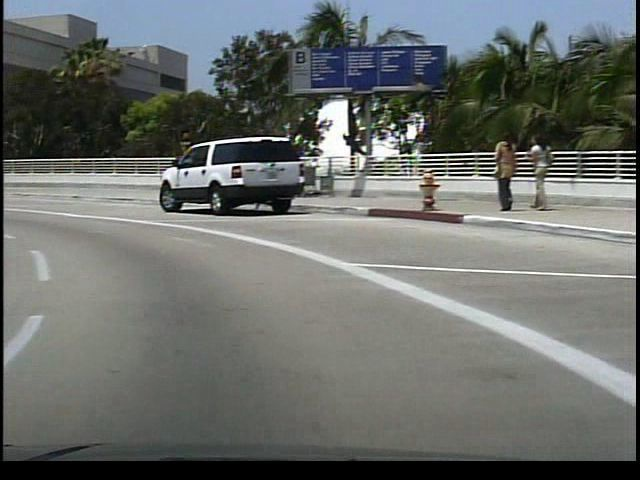person: (484, 128, 511, 216), (519, 131, 548, 212)
